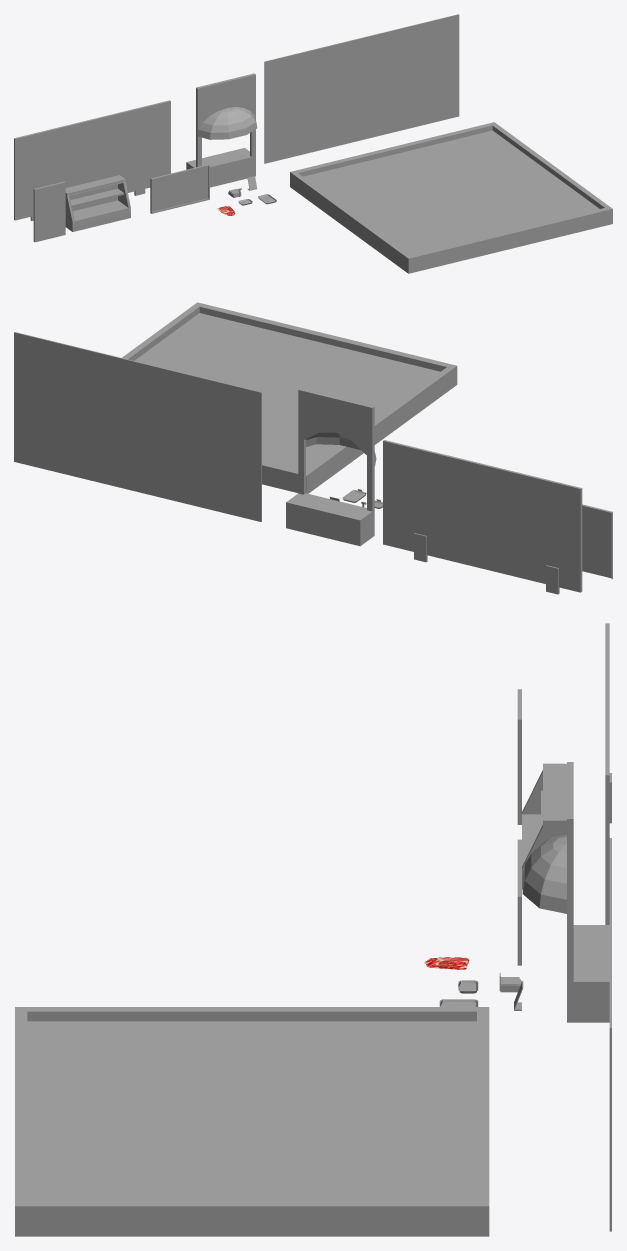
The model's file is Meat_Shop.fbx.
The picture shows the model from 3 angles, top to bottom: view 1: azimuth 30°, elevation 25°; view 2: azimuth 150°, elevation 25°; view 3: azimuth 270°, elevation 25°; orthographic projection. The views are drawn at different scales.
Parts seen in each view (by area): view 1: Meat_Shop_Roof1, Meat_Shop_Wall, Meat_Shop_Billboard1, Meat_Shop_Window, Meat_Shop_Shelves, Meat_Shop_Blackboard, Freezer_Door1; view 2: Meat_Shop_Wall, Meat_Shop_Roof1, Meat_Shop_Billboard1, Meat_Shop_Window, Freezer_Door1; view 3: Meat_Shop_Roof1, Meat_Shop_Window, Meat_Shop_Shelves, Meat_Shop_Billboard1, Meat_Shop_Wall.
Part boxes in pixels (x1,y1,x2,y2): Meat_Shop_Roof1: [290, 122, 612, 273]; Meat_Shop_Wall: [264, 14, 459, 163]; Meat_Shop_Billboard1: [14, 100, 170, 220]; Meat_Shop_Window: [186, 73, 257, 187]; Meat_Shop_Shelves: [65, 175, 130, 231]; Meat_Shop_Blackboard: [150, 164, 209, 213]; Freezer_Door1: [33, 181, 65, 242]; Meat_Shop_Wall: [14, 332, 261, 521]; Meat_Shop_Roof1: [122, 302, 457, 493]; Meat_Shop_Billboard1: [383, 440, 582, 594]; Meat_Shop_Window: [286, 388, 376, 546]; Freezer_Door1: [582, 504, 612, 579]; Meat_Shop_Roof1: [15, 1007, 489, 1236]; Meat_Shop_Window: [522, 762, 609, 1022]; Meat_Shop_Shelves: [522, 763, 566, 889]; Meat_Shop_Billboard1: [605, 623, 611, 924]; Meat_Shop_Wall: [609, 838, 611, 1231].
Bounding box in the file's own units: 23.25 × 5 × 13.28.
